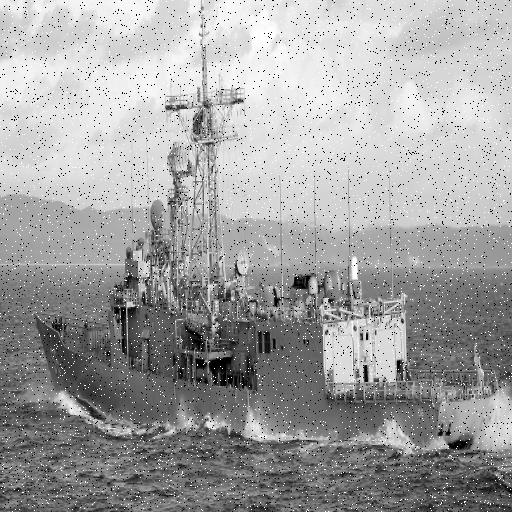Fragata: (34, 1, 503, 457)
